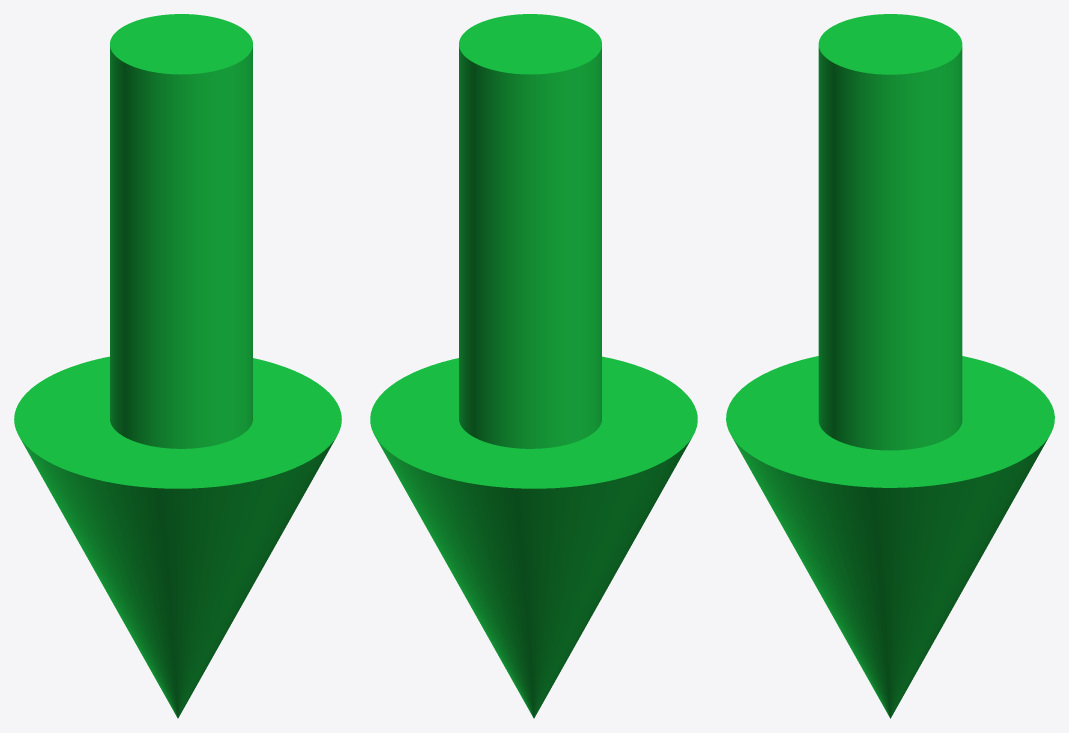
File: Arrow.fbx
3 views of the same model, side by side, from view 1: azimuth 30°, elevation 25°; view 2: azimuth 150°, elevation 25°; view 3: azimuth 270°, elevation 25° (orthographic).
Parts seen in each view (by area): view 1: root (×2); view 2: root (×2); view 3: root (×2).
Part boxes in pixels (x1=…): root (×2): x1=14, y1=14, x2=341, y2=718; root (×2): x1=370, y1=14, x2=697, y2=718; root (×2): x1=726, y1=14, x2=1054, y2=718.
Bounding box in the file's own units: 0.1164 × 0.2641 × 0.1164.
2 materials, 2 textured.
